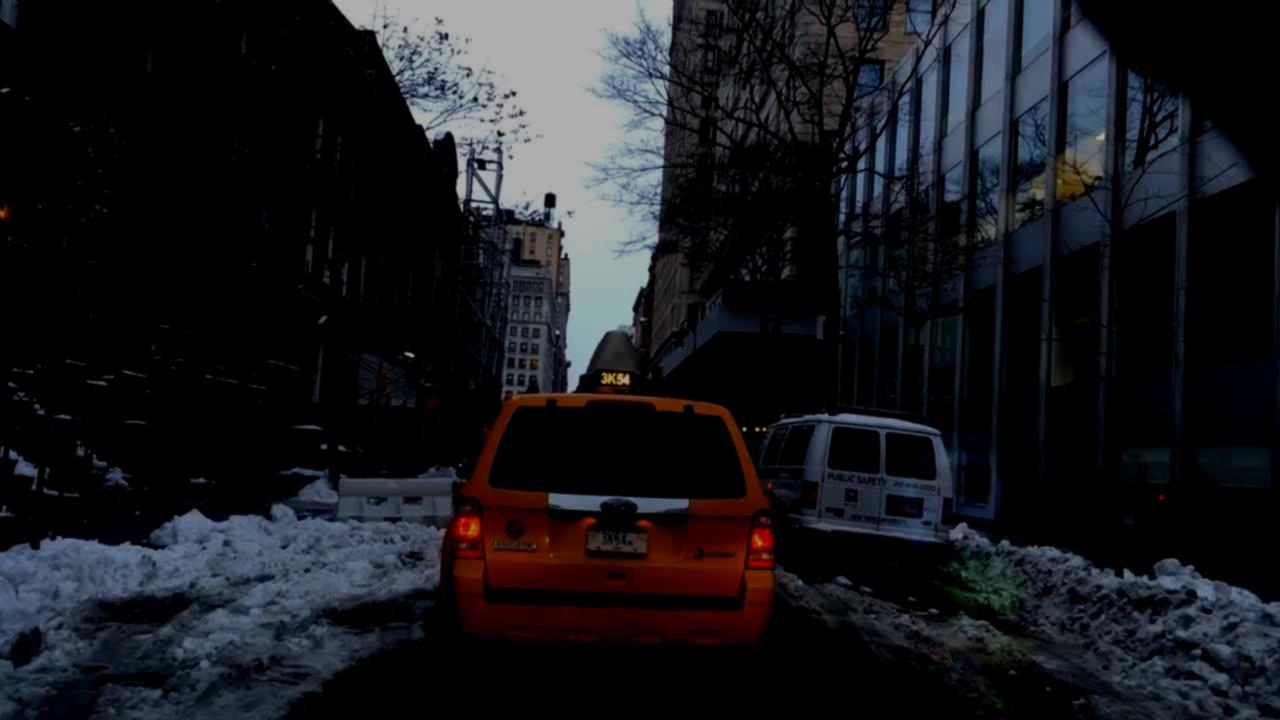ford: (598, 494, 650, 522), (919, 517, 934, 529)
